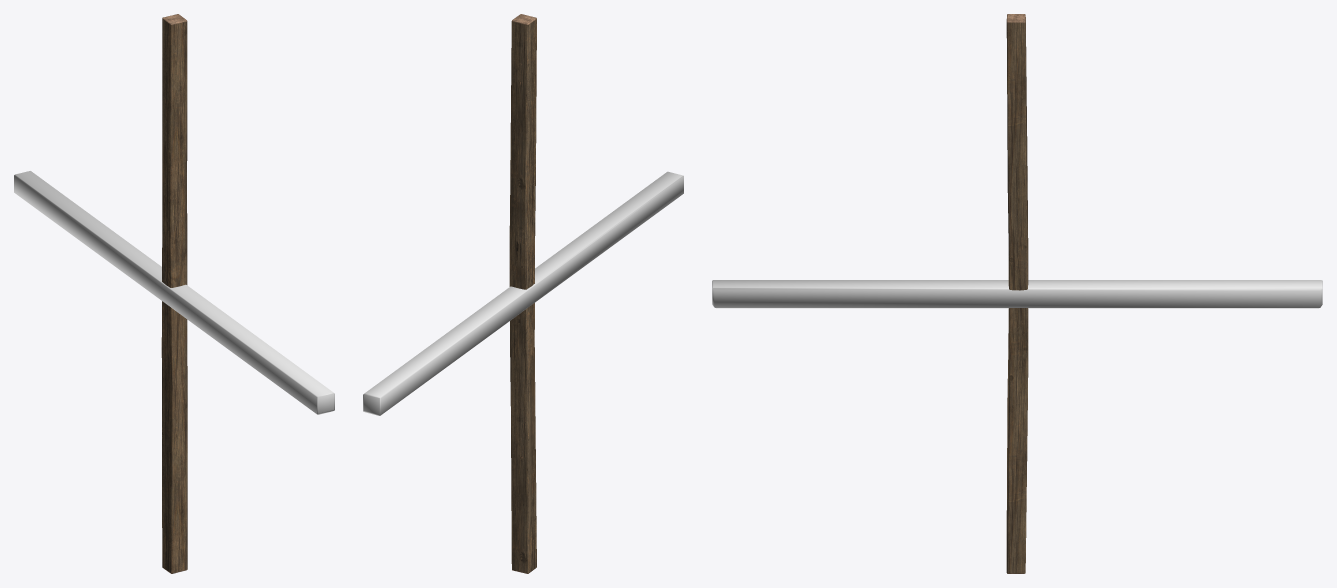
Rendered from SM_Small_Beam_B_v2_.fbx.
3 views of the same model, side by side, from view 1: azimuth 30°, elevation 25°; view 2: azimuth 150°, elevation 25°; view 3: azimuth 270°, elevation 25° (orthographic).
Parts seen in each view (by area): view 1: SM_Small_Beam_B_v2_, SM_Small_Beam_B_v2__ConvexHulls; view 2: SM_Small_Beam_B_v2_, SM_Small_Beam_B_v2__ConvexHulls; view 3: SM_Small_Beam_B_v2__ConvexHulls, SM_Small_Beam_B_v2_.
Boxes of the visible parts, x1,y1,x2,y2 form: SM_Small_Beam_B_v2_: (161,14,187,573); SM_Small_Beam_B_v2__ConvexHulls: (14,171,334,414); SM_Small_Beam_B_v2_: (509,14,536,573); SM_Small_Beam_B_v2__ConvexHulls: (363,171,683,415); SM_Small_Beam_B_v2__ConvexHulls: (712,280,1322,308); SM_Small_Beam_B_v2_: (1006,14,1028,573).
Bounding box in the file's own units: 0.1037 × 2.94 × 2.94.
